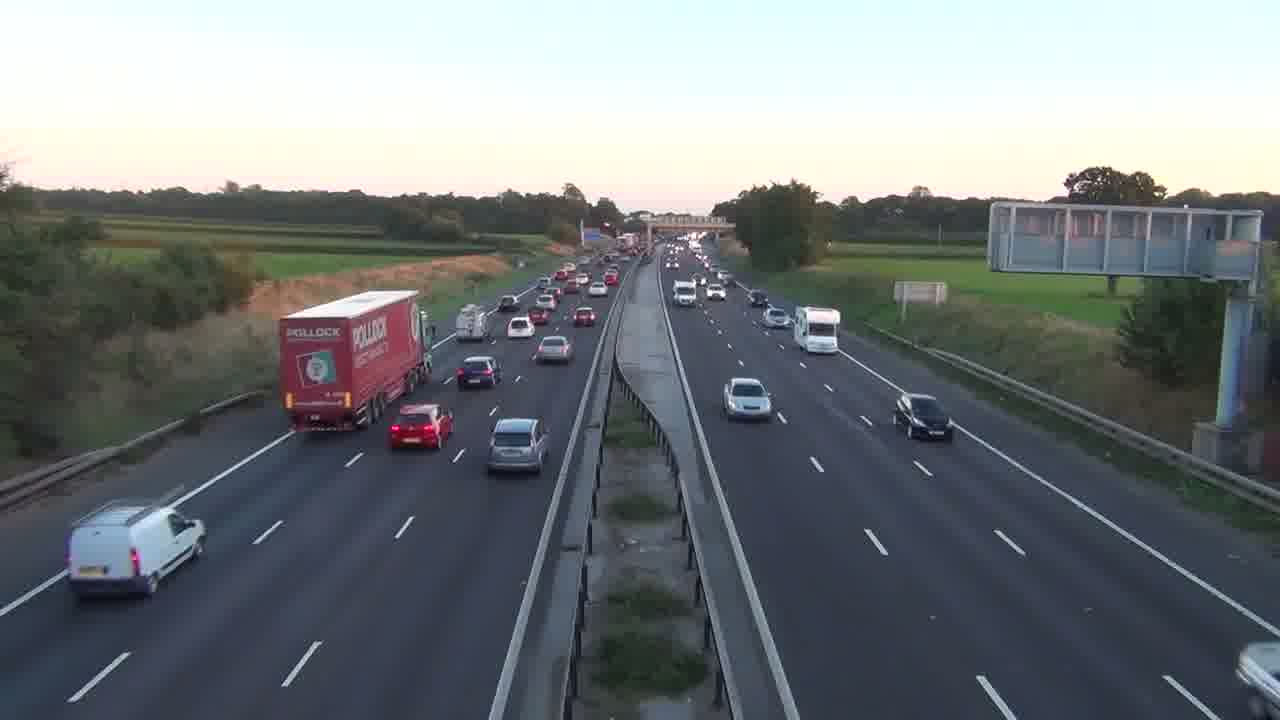car: (486, 416, 550, 474), (386, 401, 455, 451), (893, 390, 952, 440), (721, 376, 773, 422), (456, 355, 499, 390), (532, 333, 574, 365), (506, 317, 535, 340), (571, 305, 597, 327)
truck: (277, 288, 424, 433), (66, 496, 208, 599), (791, 305, 840, 355)
